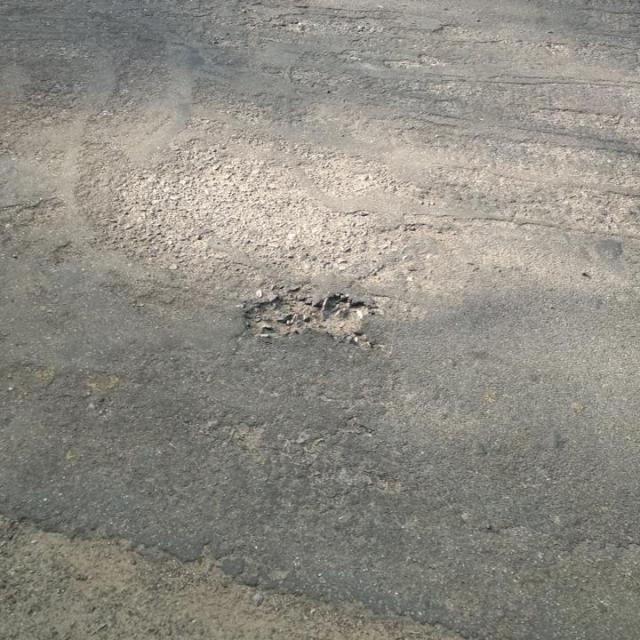pothole: (1, 513, 498, 639), (244, 289, 380, 346)
